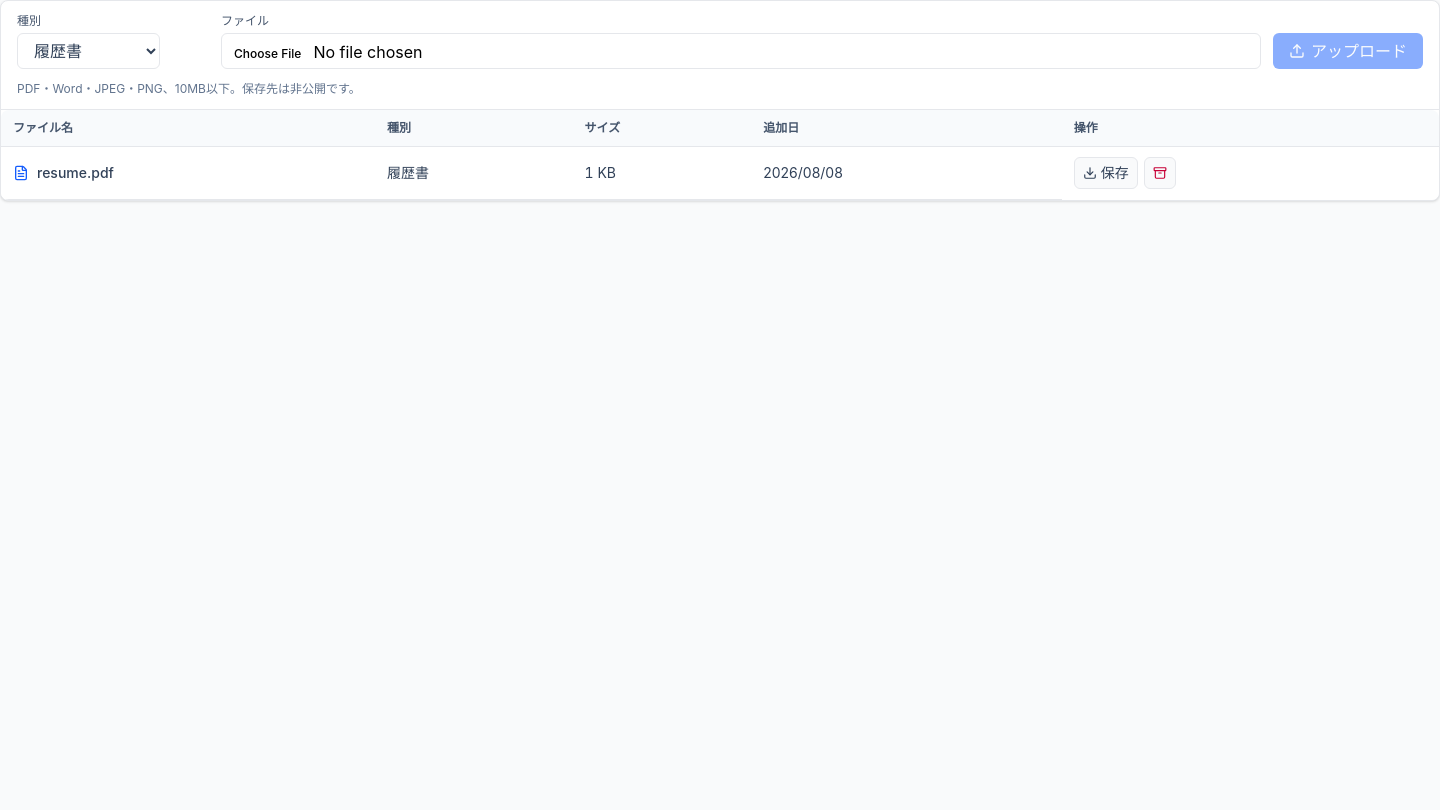
Test case: EntityFiles archive confirmation › closes the dialog when Escape is pressed
This screenshot has width=1440, height=810.
Click the button named "resume.pdfをアーカイブ" at (1160, 173), box [1144,157,1176,189]
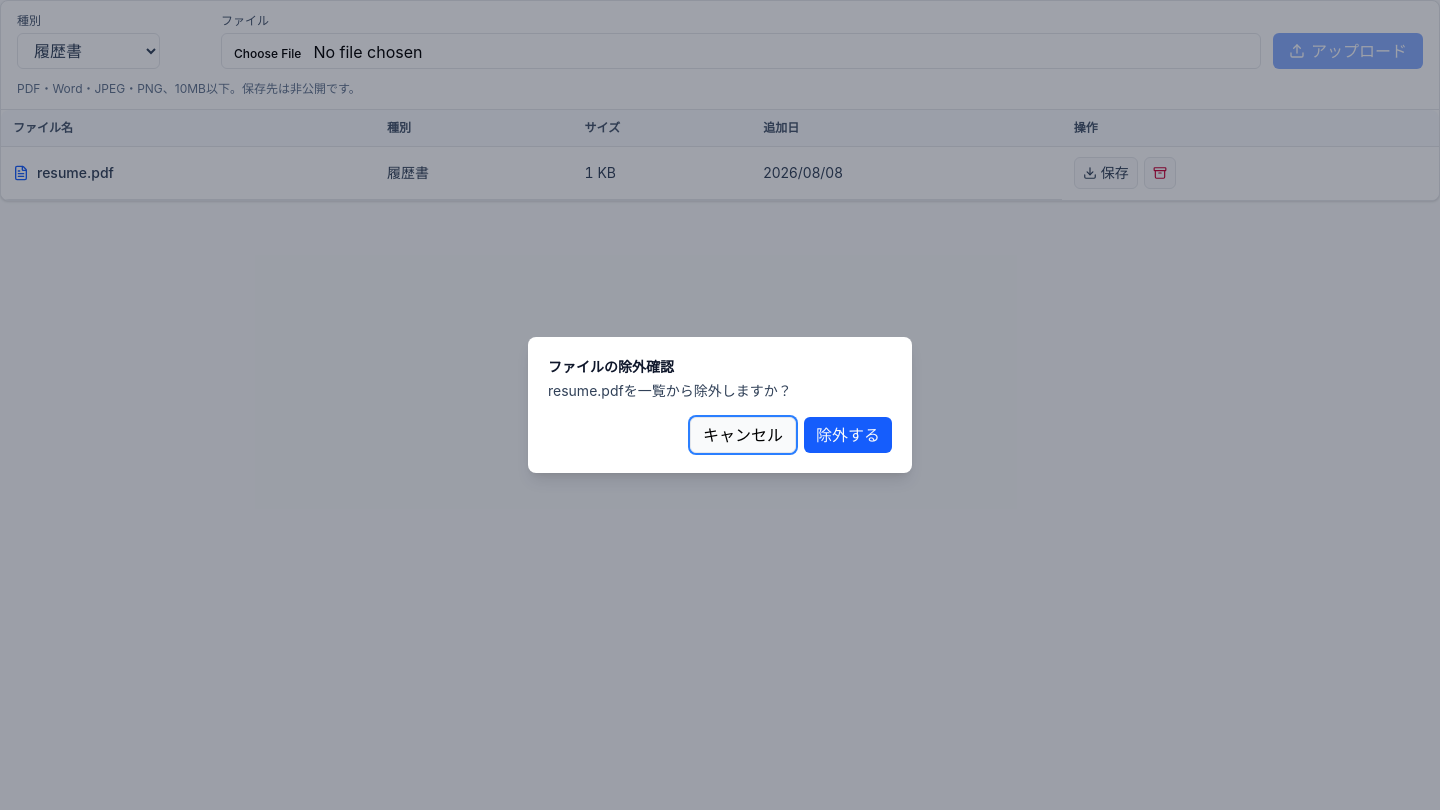
Now the dialog is shown
Press Escape
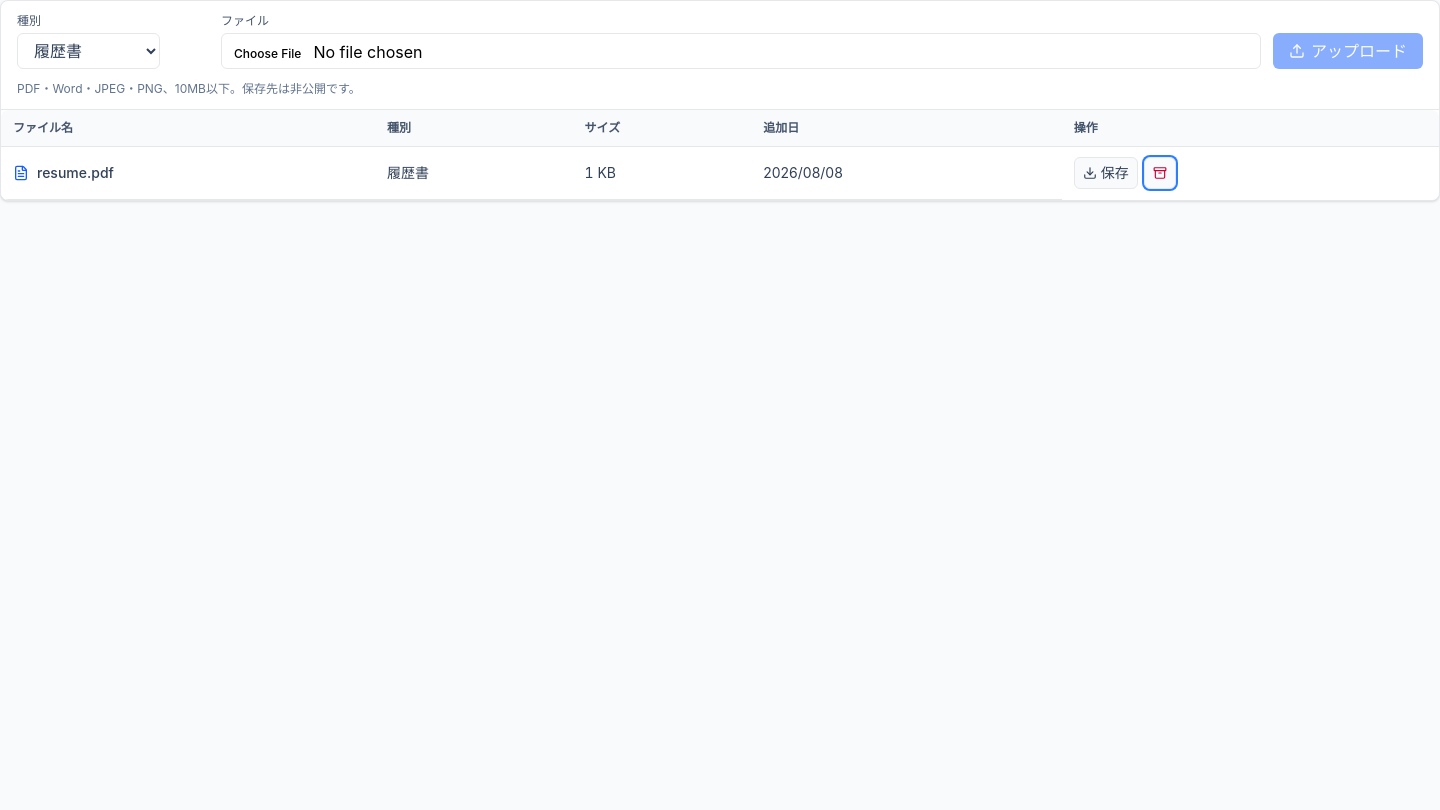
Now the dialog is gone
